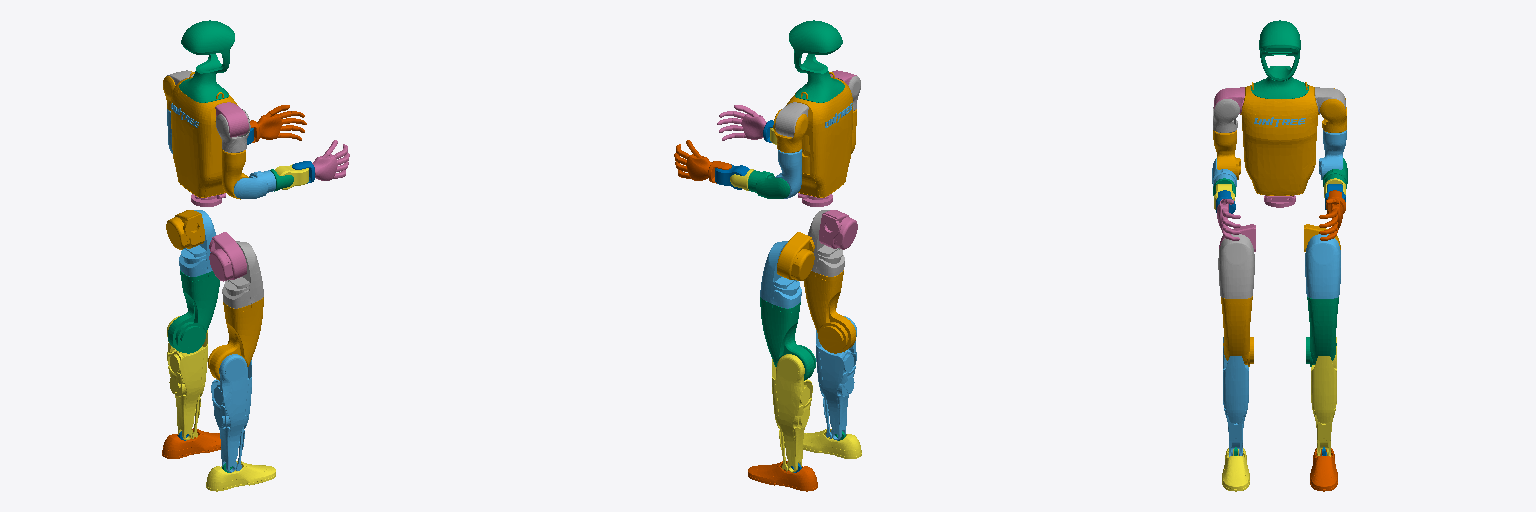
--- What the picture shows (computed from the rendered views, not written in the file) ---
The picture shows the robot from 3 angles, left to right: view 1: azimuth 30°, elevation 25°; view 2: azimuth 150°, elevation 25°; view 3: azimuth 270°, elevation 25°; orthographic projection.
Model g1_29dof with 39 links and 38 joints (29 revolute, 9 fixed), rooted at base_link, posed every joint at zero.
Visible links, largest first — view 1: torso_link, right_knee_link, head_link, left_knee_link, left_hip_yaw_link, right_hip_yaw_link, right_hip_roll_link, right_hip_pitch_link, right_ankle_roll_link, left_hip_pitch_link, left_hip_roll_link, left_ankle_roll_link (+6 smaller); view 2: torso_link, left_knee_link, head_link, right_knee_link, right_hip_yaw_link, left_hip_yaw_link, left_hip_roll_link, left_hip_pitch_link, left_ankle_roll_link, right_hip_pitch_link, right_hip_roll_link, right_ankle_roll_link (+6 smaller); view 3: torso_link, head_link, right_hip_roll_link, left_hip_roll_link, left_knee_link, right_knee_link, right_hip_yaw_link, left_hip_yaw_link, right_ankle_roll_link, left_ankle_roll_link, left_shoulder_yaw_link, right_shoulder_yaw_link (+4 smaller).
Link boxes in pixels (x1,y1,x2,y2): torso_link: [171, 72, 237, 197]; right_knee_link: [211, 354, 251, 472]; head_link: [179, 20, 234, 102]; left_knee_link: [167, 316, 207, 440]; left_hip_yaw_link: [168, 270, 219, 353]; right_hip_yaw_link: [208, 297, 263, 380]; right_hip_roll_link: [222, 241, 263, 308]; right_hip_pitch_link: [209, 232, 246, 281]; right_ankle_roll_link: [206, 461, 275, 491]; left_hip_pitch_link: [166, 210, 204, 249]; left_hip_roll_link: [179, 210, 215, 276]; left_ankle_roll_link: [162, 428, 220, 458]; torso_link: [786, 72, 852, 197]; left_knee_link: [772, 354, 812, 472]; head_link: [789, 20, 844, 102]; right_knee_link: [816, 316, 856, 440]; right_hip_yaw_link: [804, 270, 855, 353]; left_hip_yaw_link: [760, 297, 815, 380]; left_hip_roll_link: [760, 241, 801, 308]; left_hip_pitch_link: [777, 232, 814, 280]; left_ankle_roll_link: [748, 461, 817, 491]; right_hip_pitch_link: [819, 210, 857, 249]; right_hip_roll_link: [808, 210, 844, 276]; right_ankle_roll_link: [803, 429, 861, 458]; torso_link: [1240, 82, 1319, 195]; head_link: [1251, 20, 1308, 98]; right_hip_roll_link: [1218, 234, 1254, 298]; left_hip_roll_link: [1305, 234, 1340, 298]; left_knee_link: [1311, 337, 1336, 456]; right_knee_link: [1223, 337, 1248, 456]; right_hip_yaw_link: [1221, 296, 1253, 366]; left_hip_yaw_link: [1306, 297, 1338, 366]; right_ankle_roll_link: [1222, 448, 1249, 491]; left_ankle_roll_link: [1310, 448, 1337, 491]; left_shoulder_yaw_link: [1319, 130, 1346, 179]; right_shoulder_yaw_link: [1213, 130, 1240, 179].
Bounding box of the posed robot: 0.4457 × 0.3632 × 1.32 m (x, y, z).
33 mesh visuals loaded from 20 distinct referenced files (19 OBJ); not drawn: 1 (reference not matched to a file when rendering).

robot.urdf — g1_29dof:
<?xml version="1.0" ?>
<!-- =================================================================================== -->
<!-- |    This document was autogenerated by xacro from robot.xacro                    | -->
<!-- |    EDITING THIS FILE BY HAND IS NOT RECOMMENDED                                 | -->
<!-- =================================================================================== -->
<robot name="g1_29dof">
  <!-- Hip Pitch Link -->
  <link name="left_hip_pitch_link">
    <inertial>
      <origin xyz="0.002741 0.047791 -0.02606"/>
      <mass value="1.35"/>
      <inertia ixx="0.001811" ixy="3.68e-05" ixz="-3.44E-05" iyy="0.0014193" iyz="0.000171" izz="0.0012812"/>
    </inertial>
    <visual>
      <geometry>
        <mesh filename="package://unitree_g1_description/meshes/leg/hip_pitch.obj" scale="1 1 1"/>
      </geometry>
    </visual>
    <collision>
      <geometry>
        <mesh filename="package://unitree_g1_description/meshes/leg/hip_pitch.obj" scale="1 1 1"/>
      </geometry>
    </collision>
  </link>
  <!-- Hip Pitch Joint -->
  <joint name="left_hip_pitch_joint" type="revolute">
    <origin xyz="0 0.064452 -0.1027"/>
    <parent link="pelvis"/>
    <child link="left_hip_pitch_link"/>
    <axis xyz="0 1 0"/>
    <limit effort="88" lower="-2.5307" upper="2.8798" velocity="32"/>
  </joint>
  <!-- Hip Roll Link -->
  <link name="left_hip_roll_link">
    <inertial>
      <origin xyz="0.029812 -0.001045 -0.087934"/>
      <mass value="1.52"/>
      <inertia ixx="0.0023773" ixy="-3.8e-06" ixz="-0.0003908" iyy="0.0024123" iyz="1.84e-05" izz="0.0016595"/>
    </inertial>
    <visual>
      <geometry>
        <mesh filename="package://unitree_g1_description/meshes/leg/hip_roll.obj"/>
      </geometry>
    </visual>
    <collision>
      <geometry>
        <mesh filename="package://unitree_g1_description/meshes/leg/hip_roll.obj"/>
      </geometry>
    </collision>
  </link>
  <!-- Hip Roll Joint -->
  <joint name="left_hip_roll_joint" type="revolute">
    <origin rpy="0 -0.1749 0" xyz="0 0.052 -0.030465"/>
    <parent link="left_hip_pitch_link"/>
    <child link="left_hip_roll_link"/>
    <axis xyz="1 0 0"/>
    <limit effort="88" lower="-0.5236" upper="2.9671" velocity="32"/>
  </joint>
  <!-- Hip Yaw Link -->
  <link name="left_hip_yaw_link">
    <inertial>
      <origin xyz="-0.057709 -0.010981 -0.15078"/>
      <mass value="1.702"/>
      <inertia ixx="0.0057774" ixy="-0.0005411" ixz="-0.0023948" iyy="0.0076124" iyz="-0.0007072" izz="0.003149"/>
    </inertial>
    <visual>
      <geometry>
        <mesh filename="package://unitree_g1_description/meshes/leg/hip_yaw.obj" scale="1 1 1"/>
      </geometry>
    </visual>
    <collision>
      <geometry>
        <mesh filename="package://unitree_g1_description/meshes/leg/hip_yaw.obj" scale="1 1 1"/>
      </geometry>
    </collision>
  </link>
  <!-- Hip Yaw Joint -->
  <joint name="left_hip_yaw_joint" type="revolute">
    <origin xyz="0.025001 0 -0.12412"/>
    <parent link="left_hip_roll_link"/>
    <child link="left_hip_yaw_link"/>
    <axis xyz="0 0 1"/>
    <limit effort="88" lower="-2.7576" upper="2.7576" velocity="32"/>
  </joint>
  <!-- Knee Link -->
  <link name="left_knee_link">
    <inertial>
      <origin xyz="0.005457 0.003964 -0.12074"/>
      <mass value="1.932"/>
      <inertia ixx="0.011329" ixy="4.82e-05" ixz="-4.49e-05" iyy="0.011277" iyz="-0.0007146" izz="0.0015168"/>
    </inertial>
    <visual>
      <geometry>
        <mesh filename="package://unitree_g1_description/meshes/leg/knee.obj" scale="1 1 1"/>
      </geometry>
    </visual>
    <collision>
      <geometry>
        <mesh filename="package://unitree_g1_description/meshes/leg/knee.obj" scale="1 1 1"/>
      </geometry>
    </collision>
  </link>
  <!-- Knee Joint -->
  <joint name="left_knee_joint" type="revolute">
    <origin rpy="0 0.1749 0" xyz="-0.078273 0.0021489 -0.17734"/>
    <parent link="left_hip_yaw_link"/>
    <child link="left_knee_link"/>
    <axis xyz="0 1 0"/>
    <limit effort="139" lower="-0.087267" upper="2.8798" velocity="20"/>
  </joint>
  <!-- Ankle Pitch Link -->
  <link name="left_ankle_pitch_link">
    <inertial>
      <origin xyz="-0.007269 0 0.011137"/>
      <mass value="0.074"/>
      <inertia ixx="8.4E-06" ixy="0" ixz="-2.9E-06" iyy="1.89E-05" iyz="0" izz="1.26E-05"/>
    </inertial>
    <visual>
      <geometry>
        <mesh filename="package://unitree_g1_description/meshes/leg/ankle_pitch.obj"/>
      </geometry>
    </visual>
    <collision>
      <geometry>
        <mesh filename="package://unitree_g1_description/meshes/leg/ankle_pitch.obj"/>
      </geometry>
    </collision>
  </link>
  <!-- Ankle Pitch Joint -->
  <joint name="left_ankle_pitch_joint" type="revolute">
    <origin xyz="0 -9.4445e-05 -0.30001"/>
    <parent link="left_knee_link"/>
    <child link="left_ankle_pitch_link"/>
    <axis xyz="0 1 0"/>
    <limit effort="35" lower="-0.87267" upper="0.5236" velocity="30"/>
  </joint>
  <!-- Ankle Roll Link -->
  <link name="left_ankle_roll_link">
    <inertial>
      <origin xyz="0.026505 0 -0.016425"/>
      <mass value="0.608"/>
      <inertia ixx="0.0002231" ixy="2e-07" ixz="8.91E-05" iyy="0.0016161" iyz="-1e-07" izz="0.0016667"/>
    </inertial>
    <visual>
      <geometry>
        <mesh filename="package://unitree_g1_description/meshes/leg/ankle_roll.obj"/>
      </geometry>
    </visual>
    <collision>
      <origin xyz="-0.05 0.025 -0.03"/>
      <geometry>
        <sphere radius="0.005"/>
      </geometry>
    </collision>
    <collision>
      <origin xyz="-0.05 -0.025 -0.03"/>
      <geometry>
        <sphere radius="0.005"/>
      </geometry>
    </collision>
    <collision>
      <origin xyz="0.12 0.03 -0.03"/>
      <geometry>
        <sphere radius="0.005"/>
      </geometry>
    </collision>
    <collision>
      <origin xyz="0.12 -0.03 -0.03"/>
      <geometry>
        <sphere radius="0.005"/>
      </geometry>
    </collision>
  </link>
  <!-- Ankle Roll Joint -->
  <joint name="left_ankle_roll_joint" type="revolute">
    <origin xyz="0 0 -0.017558"/>
    <parent link="left_ankle_pitch_link"/>
    <child link="left_ankle_roll_link"/>
    <axis xyz="1 0 0"/>
    <limit effort="35" lower="-0.2618" upper="0.2618" velocity="30"/>
  </joint>
  <!-- Hip Pitch Link -->
  <link name="right_hip_pitch_link">
    <inertial>
      <origin xyz="0.002741 -0.047791 -0.02606"/>
      <mass value="1.35"/>
      <inertia ixx="0.001811" ixy="-3.68e-05" ixz="-3.44E-05" iyy="0.0014193" iyz="-0.000171" izz="0.0012812"/>
    </inertial>
    <visual>
      <geometry>
        <mesh filename="package://unitree_g1_description/meshes/leg/hip_pitch.obj" scale="1 -1 1"/>
      </geometry>
    </visual>
    <collision>
      <geometry>
        <mesh filename="package://unitree_g1_description/meshes/leg/hip_pitch.obj" scale="1 -1 1"/>
      </geometry>
    </collision>
  </link>
  <!-- Hip Pitch Joint -->
  <joint name="right_hip_pitch_joint" type="revolute">
    <origin xyz="0 -0.064452 -0.1027"/>
    <parent link="pelvis"/>
    <child link="right_hip_pitch_link"/>
    <axis xyz="0 1 0"/>
    <limit effort="88" lower="-2.5307" upper="2.8798" velocity="32"/>
  </joint>
  <!-- Hip Roll Link -->
  <link name="right_hip_roll_link">
    <inertial>
      <origin xyz="0.029812 0.001045 -0.087934"/>
      <mass value="1.52"/>
      <inertia ixx="0.0023773" ixy="3.8e-06" ixz="-0.0003908" iyy="0.0024123" iyz="-1.84e-05" izz="0.0016595"/>
    </inertial>
    <visual>
      <geometry>
        <mesh filename="package://unitree_g1_description/meshes/leg/hip_roll.obj"/>
      </geometry>
    </visual>
    <collision>
      <geometry>
        <mesh filename="package://unitree_g1_description/meshes/leg/hip_roll.obj"/>
      </geometry>
    </collision>
  </link>
  <!-- Hip Roll Joint -->
  <joint name="right_hip_roll_joint" type="revolute">
    <origin rpy="0 -0.1749 0" xyz="0 -0.052 -0.030465"/>
    <parent link="right_hip_pitch_link"/>
    <child link="right_hip_roll_link"/>
    <axis xyz="1 0 0"/>
    <limit effort="88" lower="-2.9671" upper="0.5236" velocity="32"/>
  </joint>
  <!-- Hip Yaw Link -->
  <link name="right_hip_yaw_link">
    <inertial>
      <origin xyz="-0.057709 0.010981 -0.15078"/>
      <mass value="1.702"/>
      <inertia ixx="0.0057774" ixy="0.0005411" ixz="-0.0023948" iyy="0.0076124" iyz="0.0007072" izz="0.003149"/>
    </inertial>
    <visual>
      <geometry>
        <mesh filename="package://unitree_g1_description/meshes/leg/hip_yaw.obj" scale="1 -1 1"/>
      </geometry>
    </visual>
    <collision>
      <geometry>
        <mesh filename="package://unitree_g1_description/meshes/leg/hip_yaw.obj" scale="1 -1 1"/>
      </geometry>
    </collision>
  </link>
  <!-- Hip Yaw Joint -->
  <joint name="right_hip_yaw_joint" type="revolute">
    <origin xyz="0.025001 0 -0.12412"/>
    <parent link="right_hip_roll_link"/>
    <child link="right_hip_yaw_link"/>
    <axis xyz="0 0 1"/>
    <limit effort="88" lower="-2.7576" upper="2.7576" velocity="32"/>
  </joint>
  <!-- Knee Link -->
  <link name="right_knee_link">
    <inertial>
      <origin xyz="0.005457 -0.003964 -0.12074"/>
      <mass value="1.932"/>
      <inertia ixx="0.011329" ixy="-4.82e-05" ixz="4.49e-05" iyy="0.011277" iyz="0.0007146" izz="0.0015168"/>
    </inertial>
    <visual>
      <geometry>
        <mesh filename="package://unitree_g1_description/meshes/leg/knee.obj" scale="1 -1 1"/>
      </geometry>
    </visual>
    <collision>
      <geometry>
        <mesh filename="package://unitree_g1_description/meshes/leg/knee.obj" scale="1 -1 1"/>
      </geometry>
    </collision>
  </link>
  <!-- Knee Joint -->
  <joint name="right_knee_joint" type="revolute">
    <origin rpy="0 0.1749 0" xyz="-0.078273 -0.0021489 -0.17734"/>
    <parent link="right_hip_yaw_link"/>
    <child link="right_knee_link"/>
    <axis xyz="0 1 0"/>
    <limit effort="139" lower="-0.087267" upper="2.8798" velocity="20"/>
  </joint>
  <!-- Ankle Pitch Link -->
  <link name="right_ankle_pitch_link">
    <inertial>
      <origin xyz="-0.007269 0 0.011137"/>
      <mass value="0.074"/>
      <inertia ixx="8.4E-06" ixy="0" ixz="-2.9E-06" iyy="1.89E-05" iyz="0" izz="1.26E-05"/>
    </inertial>
    <visual>
      <geometry>
        <mesh filename="package://unitree_g1_description/meshes/leg/ankle_pitch.obj"/>
      </geometry>
    </visual>
    <collision>
      <geometry>
        <mesh filename="package://unitree_g1_description/meshes/leg/ankle_pitch.obj"/>
      </geometry>
    </collision>
  </link>
  <!-- Ankle Pitch Joint -->
  <joint name="right_ankle_pitch_joint" type="revolute">
    <origin xyz="0 9.4445e-05 -0.30001"/>
    <parent link="right_knee_link"/>
    <child link="right_ankle_pitch_link"/>
    <axis xyz="0 1 0"/>
    <limit effort="35" lower="-0.87267" upper="0.5236" velocity="30"/>
  </joint>
  <!-- Ankle Roll Link -->
  <link name="right_ankle_roll_link">
    <inertial>
      <origin xyz="0.026505 0 -0.016425"/>
      <mass value="0.608"/>
      <inertia ixx="0.0002231" ixy="-2e-07" ixz="8.91E-05" iyy="0.0016161" iyz="1e-07" izz="0.0016667"/>
    </inertial>
    <visual>
      <geometry>
        <mesh filename="package://unitree_g1_description/meshes/leg/ankle_roll.obj"/>
      </geometry>
    </visual>
    <collision>
      <origin xyz="-0.05 0.025 -0.03"/>
      <geometry>
        <sphere radius="0.005"/>
      </geometry>
    </collision>
    <collision>
      <origin xyz="-0.05 -0.025 -0.03"/>
      <geometry>
        <sphere radius="0.005"/>
      </geometry>
    </collision>
    <collision>
      <origin xyz="0.12 0.03 -0.03"/>
      <geometry>
        <sphere radius="0.005"/>
      </geometry>
    </collision>
    <collision>
      <origin xyz="0.12 -0.03 -0.03"/>
      <geometry>
        <sphere radius="0.005"/>
      </geometry>
    </collision>
  </link>
  <!-- Ankle Roll Joint -->
  <joint name="right_ankle_roll_joint" type="revolute">
    <origin xyz="0 0 -0.017558"/>
    <parent link="right_ankle_pitch_link"/>
    <child link="right_ankle_roll_link"/>
    <axis xyz="1 0 0"/>
    <limit effort="35" lower="-0.2618" upper="0.2618" velocity="30"/>
  </joint>
  <!-- 
		Unitree G1 Body Macro
		Includes: pelvis, torso, head, sensors, and logo
		-->
  <link name="base_link"/>
  <joint name="base_link_joint" type="fixed">
    <parent link="base_link"/>
    <child link="pelvis"/>
  </joint>
  <!-- Pelvis Link -->
  <link name="pelvis">
    <inertial>
      <origin xyz="0 0 -0.07605"/>
      <mass value="3.813"/>
      <inertia ixx="0.010549" ixy="0" ixz="2.1E-06" iyy="0.0093089" iyz="0" izz="0.0079184"/>
    </inertial>
    <visual>
      <geometry>
        <mesh filename="package://unitree_g1_description/meshes/body/pelvis.obj"/>
      </geometry>
    </visual>
  </link>
  <!-- Torso Structure -->
  <!-- Waist Yaw Link -->
  <link name="waist_yaw_link">
    <inertial>
      <origin xyz="0.003494 0.000233 0.018034"/>
      <mass value="0.214"/>
      <inertia ixx="0.00010673" ixy="2.703E-06" ixz="-7.631E-06" iyy="0.00010422" iyz="-2.01E-07" izz="0.0001625"/>
    </inertial>
    <visual>
      <geometry>
        <mesh filename="package://unitree_g1_description/meshes/body/waist_yaw.obj"/>
      </geometry>
    </visual>
  </link>
  <!-- Waist Yaw Joint -->
  <joint name="waist_yaw_joint" type="revolute">
    <parent link="pelvis"/>
    <child link="waist_yaw_link"/>
    <axis xyz="0 0 1"/>
    <limit effort="88" lower="-2.618" upper="2.618" velocity="32"/>
  </joint>
  <!-- Waist Roll Link -->
  <link name="waist_roll_link">
    <inertial>
      <origin xyz="0 2.3E-05 0"/>
      <mass value="0.086"/>
      <inertia ixx="7.079E-06" ixy="0" ixz="0" iyy="6.339E-06" iyz="0" izz="8.245E-06"/>
    </inertial>
    <visual>
      <geometry>
        <mesh filename="package://unitree_g1_description/meshes/body/waist_roll.obj"/>
      </geometry>
    </visual>
  </link>
  <!-- Waist Roll Joint -->
  <joint name="waist_roll_joint" type="revolute">
    <origin xyz="-0.0039635 0 0.044"/>
    <parent link="waist_yaw_link"/>
    <child link="waist_roll_link"/>
    <axis xyz="1 0 0"/>
    <limit effort="35" lower="-0.52" upper="0.52" velocity="30"/>
  </joint>
  <!-- Torso Link -->
  <link name="torso_link">
    <inertial>
      <origin xyz="0.000931 0.000346 0.15082"/>
      <mass value="6.78"/>
      <inertia ixx="0.05905" ixy="3.3302E-05" ixz="-0.0017715" iyy="0.047014" iyz="-2.2399E-05" izz="0.025652"/>
    </inertial>
    <visual>
      <geometry>
        <mesh filename="package://unitree_g1_description/meshes/body/torso.obj"/>
      </geometry>
    </visual>
    <collision>
      <origin xyz="0.008 0 0.025"/>
      <geometry>
        <box size="0.12 0.15 0.05"/>
      </geometry>
    </collision>
    <collision>
      <origin xyz="0.008 0 0.15"/>
      <geometry>
        <box size="0.12 0.2 0.2"/>
      </geometry>
    </collision>
  </link>
  <!-- Waist Pitch Joint -->
  <joint name="waist_pitch_joint" type="revolute">
    <parent link="waist_roll_link"/>
    <child link="torso_link"/>
    <axis xyz="0 1 0"/>
    <limit effort="35" lower="-0.52" upper="0.52" velocity="30"/>
  </joint>
  <!-- Logo -->
  <link name="logo_link">
    <inertial>
      <mass value="0.001"/>
      <inertia ixx="1e-7" ixy="0" ixz="0" iyy="1e-7" iyz="0" izz="1e-7"/>
    </inertial>
    <visual>
      <geometry>
        <mesh filename="package://unitree_g1_description/meshes/body/logo.obj"/>
      </geometry>
    </visual>
  </link>
  <joint name="logo_joint" type="fixed">
    <origin xyz="0.0039635 0 -0.044"/>
    <parent link="torso_link"/>
    <child link="logo_link"/>
  </joint>
  <!-- Head -->
  <link name="head_link">
    <inertial>
      <origin xyz="0.005267 0.000299 0.449869"/>
      <mass value="1.036"/>
      <inertia ixx="0.004085051" ixy="-2.543E-06" ixz="-6.9455E-05" iyy="0.004185212" iyz="-3.726E-06" izz="0.001807911"/>
    </inertial>
    <visual>
      <geometry>
        <mesh filename="package://unitree_g1_description/meshes/body/head.obj"/>
      </geometry>
    </visual>
    <collision>
      <geometry>
        <mesh filename="package://unitree_g1_description/meshes/body/head.obj"/>
      </geometry>
    </collision>
  </link>
  <joint name="head_joint" type="fixed">
    <origin xyz="0.0039635 0 -0.044"/>
    <parent link="torso_link"/>
    <child link="head_link"/>
  </joint>
  <!-- IMU Sensors -->
  <link name="imu_in_torso"/>
  <joint name="imu_in_torso_joint" type="fixed">
    <origin xyz="-0.03959 -0.00224 0.14792"/>
    <parent link="torso_link"/>
    <child link="imu_in_torso"/>
  </joint>
  <link name="imu_in_pelvis"/>
  <joint name="imu_in_pelvis_joint" type="fixed">
    <origin xyz="0.04525 0 -0.08339"/>
    <parent link="pelvis"/>
    <child link="imu_in_pelvis"/>
  </joint>
  <!-- Cameras and Sensors -->
  <link name="d435_link"/>
  <joint name="d435_joint" type="fixed">
    <origin rpy="0 0.8307767239493009 0" xyz="0.0576235 0.01753 0.42987"/>
    <parent link="torso_link"/>
    <child link="d435_link"/>
  </joint>
  <link name="mid360_link"/>
  <joint name="mid360_joint" type="fixed">
    <origin rpy="0 0.04014257279586953 0" xyz="0.0002835 0.00003 0.41618"/>
    <parent link="torso_link"/>
    <child link="mid360_link"/>
  </joint>
  <!-- 
		Unitree G1 Arm Macro
		Parameters:
		- name: arm name prefix (e.g., "left", "right")
		- direction: 1 for right arm, -1 for left arm (for mirroring)
		-->
  <!-- Shoulder Pitch Link -->
  <link name="left_shoulder_pitch_link">
    <inertial>
      <origin xyz="0 0.035892 -0.011628"/>
      <mass value="0.718"/>
      <inertia ixx="0.0004291" ixy="-9.2e-06" ixz="6.4E-06" iyy="0.000453" iyz="2.26e-05" izz="0.000423"/>
    </inertial>
    <visual>
      <geometry>
        <mesh filename="package://unitree_g1_description/meshes/arm/shoulder_pitch.obj" scale="1 1 1"/>
      </geometry>
    </visual>
    <collision>
      <origin rpy="0 1.5707963267948966 0" xyz="0 0.04 -0.01"/>
      <geometry>
        <cylinder length="0.05" radius="0.03"/>
      </geometry>
    </collision>
  </link>
  <!-- Shoulder Pitch Joint -->
  <joint name="left_shoulder_pitch_joint" type="revolute">
    <origin rpy="0.27931 5.4949E-05 -0.00019159" xyz="0.0039563 0.10022 0.24778"/>
    <parent link="torso_link"/>
    <child link="left_shoulder_pitch_link"/>
    <axis xyz="0 1 0"/>
    <limit effort="25" lower="-3.0892" upper="2.6704" velocity="37"/>
  </joint>
  <!-- Shoulder Roll Link -->
  <link name="left_shoulder_roll_link">
    <inertial>
      <origin xyz="-0.000227 0.00727 -0.063243"/>
      <mass value="0.643"/>
      <inertia ixx="0.0006177" ixy="-1e-06" ixz="8.7E-06" iyy="0.0006912" iyz="-5.3e-06" izz="0.0003894"/>
    </inertial>
    <visual>
      <geometry>
        <mesh filename="package://unitree_g1_description/meshes/arm/shoulder_roll.obj" scale="1 1 1"/>
      </geometry>
    </visual>
    <collision>
      <origin xyz="-0.004 0.006 -0.053"/>
      <geometry>
        <cylinder length="0.03" radius="0.03"/>
      </geometry>
    </collision>
  </link>
  <!-- Shoulder Roll Joint -->
  <joint name="left_shoulder_roll_joint" type="revolute">
    <origin rpy="-0.27925 0 0" xyz="0 0.038 -0.013831"/>
    <parent link="left_shoulder_pitch_link"/>
    <child link="left_shoulder_roll_link"/>
    <axis xyz="1 0 0"/>
    <limit effort="25" lower="-1.5882" upper="2.2515" velocity="37"/>
  </joint>
  <!-- Shoulder Yaw Link -->
  <link name="left_shoulder_yaw_link">
    <inertial>
      <origin xyz="0.010773 -0.002949 -0.072009"/>
      <mass value="0.734"/>
      <inertia ixx="0.0009988" ixy="7.9e-06" ixz="0.0001412" iyy="0.0010605" iyz="-2.86e-05" izz="0.0004354"/>
    </inertial>
    <visual>
      <geometry>
        <mesh filename="package://unitree_g1_description/meshes/arm/shoulder_yaw.obj" scale="1 1 1"/>
      </geometry>
    </visual>
    <collision>
      <origin xyz="0 0 -0.02"/>
      <geometry>
        <cylinder length="0.08" radius="0.03"/>
      </geometry>
    </collision>
    <collision>
      <origin rpy="1.5707963267948966 0 0" xyz="0.01 -0.01 -0.08"/>
      <geometry>
        <cylinder length="0.06" radius="0.03"/>
      </geometry>
    </collision>
  </link>
  <!-- Shoulder Yaw Joint -->
  <joint name="left_shoulder_yaw_joint" type="revolute">
    <origin xyz="0 0.00624 -0.1032"/>
    <parent link="left_shoulder_roll_link"/>
    <child link="left_shoulder_yaw_link"/>
    <axis xyz="0 0 1"/>
    <limit effort="25" lower="-2.618" upper="2.618" velocity="37"/>
  </joint>
  <!-- Elbow Link -->
  <link name="left_elbow_link">
    <inertial>
      <origin xyz="0.064956 0.004454 -0.010062"/>
      <mass value="0.6"/>
      <inertia ixx="0.0002891" ixy="6.53e-05" ixz="1.72E-05" iyy="0.0004152" iyz="-5.6e-06" izz="0.0004197"/>
    </inertial>
    <visual>
      <geometry>
        <mesh filename="package://unitree_g1_description/meshes/arm/elbow.obj" scale="1 1 1"/>
      </geometry>
    </visual>
    <collision>
      <origin rpy="0 1.5707963267948966 0" xyz="0.07 0 -0.01"/>
      <geometry>
        <cylinder length="0.06" radius="0.03"/>
      </geometry>
    </collision>
  </link>
  <!-- Elbow Joint -->
  <joint name="left_elbow_joint" type="revolute">
    <origin xyz="0.015783 0 -0.080518"/>
    <parent link="left_shoulder_yaw_link"/>
    <child link="left_elbow_link"/>
    <axis xyz="0 1 0"/>
    <limit effort="25" lower="-1.0472" upper="2.0944" velocity="37"/>
  </joint>
  <!-- Wrist Roll Link -->
  <link name="left_wrist_roll_link">
    <inertial>
      <origin xyz="0.01713944778 0.00053759094 0.00000048864"/>
      <mass value="0.08544498"/>
      <inertia ixx="0.00004821544023" ixy="-4.24511021e-06" ixz="0.00000000510599" iyy="0.00003722899093" iyz="-1.23525e-09" izz="0.00005482106541"/>
    </inertial>
    <visual>
      <geometry>
        <mesh filename="package://unitree_g1_description/meshes/arm/wrist_roll.obj"/>
      </geometry>
    </visual>
  </link>
  <!-- Wrist Roll Joint -->
  <joint name="left_wrist_roll_joint" type="revolute">
    <origin xyz="0.100 0.00188791 -0.010"/>
    <axis xyz="1 0 0"/>
    <parent link="left_elbow_link"/>
    <child link="left_wrist_roll_link"/>
    <limit effort="25" lower="-1.972222054" upper="1.972222054" velocity="37"/>
  </joint>
  <!-- Wrist Pitch Link -->
  <link name="left_wrist_pitch_link">
    <inertial>
      <origin xyz="0.02299989837 -0.00111685314 -0.00111658096"/>
      <mass value="0.48404956"/>
      <inertia ixx="0.00016579646273" ixy="-1.231206746e-05" ixz="0.00001231699194" iyy="0.00042954057410" iyz="8.1417712e-07" izz="0.00042953697654"/>
    </inertial>
    <visual>
      <geometry>
        <mesh filename="package://unitree_g1_description/meshes/arm/wrist_pitch.obj"/>
      </geometry>
    </visual>
    <collision>
      <origin rpy="1.5707963267948966 0 0"/>
      <geometry>
        <cylinder length="0.06" radius="0.03"/>
      </geometry>
    </collision>
    <collision>
      <origin xyz="0.06 0 0"/>
      <geometry>
        <cylinder length="0.05" radius="0.03"/>
      </geometry>
    </collision>
  </link>
  <!-- Wrist Pitch Joint -->
  <joint name="left_wrist_pitch_joint" type="revolute">
    <origin xyz="0.038 0 0"/>
    <axis xyz="0 1 0"/>
    <parent link="left_wrist_roll_link"/>
    <child link="left_wrist_pitch_link"/>
    <limit effort="5" lower="-1.614429558" upper="1.614429558" velocity="22"/>
  </joint>
  <!-- Wrist Yaw Link -->
  <link name="left_wrist_yaw_link">
    <inertial>
      <origin xyz="0.02200381568 0.00049485096 0.00053861123"/>
      <mass value="0.08457647"/>
      <inertia ixx="0.00004929128828" ixy="-4.5735494e-07" ixz="0.00000445867591" iyy="0.00005973338134" iyz="-4.3217198e-07" izz="0.00003928083826"/>
    </inertial>
    <visual>
      <geometry>
        <mesh filename="package://unitree_g1_description/meshes/arm/wrist_yaw.obj"/>
      </geometry>
    </visual>
  </link>
  <!-- Wrist Yaw Joint -->
  <joint name="left_wrist_yaw_joint" type="revolute">
    <origin xyz="0.046 0 0"/>
    <axis xyz="0 0 1"/>
    <parent link="left_wrist_pitch_link"/>
    <child link="left_wrist_yaw_link"/>
    <limit effort="5" lower="-1.614429558" upper="1.614429558" velocity="22"/>
  </joint>
  <!-- 
		Unitree G1 Arm Macro
		Parameters:
		- name: arm name prefix (e.g., "left", "right")
		- direction: 1 for right arm, -1 for left arm (for mirroring)
		-->
  <!-- Shoulder Pitch Link -->
  <link name="right_shoulder_pitch_link">
    <inertial>
      <origin xyz="0 -0.035892 -0.011628"/>
      <mass value="0.718"/>
      <inertia ixx="0.0004291" ixy="9.2e-06" ixz="6.4E-06" iyy="0.000453" iyz="-2.26e-05" izz="0.000423"/>
    </inertial>
    <visual>
      <geometry>
        <mesh filename="package://unitree_g1_description/meshes/arm/shoulder_pitch.obj" scale="1 -1 1"/>
      </geometry>
    </visual>
    <collision>
      <origin rpy="0 1.5707963267948966 0" xyz="0 -0.04 -0.01"/>
      <geometry>
        <cylinder length="0.05" radius="0.03"/>
      </geometry>
    </collision>
  </link>
  <!-- Shoulder Pitch Joint -->
  <joint name="right_shoulder_pitch_joint" type="revolute">
    <origin rpy="-0.27931 5.4949E-05 0.00019159" xyz="0.0039563 -0.10022 0.24778"/>
    <parent link="torso_link"/>
    <child link="right_shoulder_pitch_link"/>
    <axis xyz="0 1 0"/>
    <limit effort="25" lower="-3.0892" upper="2.6704" velocity="37"/>
  </joint>
  <!-- Shoulder Roll Link -->
  <link name="right_shoulder_roll_link">
    <inertial>
      <origin xyz="-0.000227 -0.00727 -0.063243"/>
      <mass value="0.643"/>
      <inertia ixx="0.0006177" ixy="1e-06" ixz="8.7E-06" iyy="0.0006912" iyz="5.3e-06" izz="0.0003894"/>
    </inertial>
    <visual>
      <geometry>
        <mesh filename="package://unitree_g1_description/meshes/arm/shoulder_roll.obj" scale="1 -1 1"/>
      </geometry>
    </visual>
    <collision>
      <origin xyz="-0.004 -0.006 -0.053"/>
      <geometry>
        <cylinder length="0.03" radius="0.03"/>
      </geometry>
    </collision>
  </link>
  <!-- Shoulder Roll Joint -->
  <joint name="right_shoulder_roll_joint" type="revolute">
    <origin rpy="0.27925 0 0" xyz="0 -0.038 -0.013831"/>
    <parent link="right_shoulder_pitch_link"/>
    <child link="right_shoulder_roll_link"/>
    <axis xyz="1 0 0"/>
    <limit effort="25" lower="-2.2515" upper="1.5882" velocity="37"/>
  </joint>
  <!-- Shoulder Yaw Link -->
  <link name="right_shoulder_yaw_link">
    <inertial>
      <origin xyz="0.010773 0.002949 -0.072009"/>
      <mass value="0.734"/>
      <inertia ixx="0.0009988" ixy="-7.9e-06" ixz="0.0001412" iyy="0.0010605" iyz="2.86e-05" izz="0.0004354"/>
    </inertial>
    <visual>
      <geometry>
        <mesh filename="package://unitree_g1_description/meshes/arm/shoulder_yaw.obj" scale="1 -1 1"/>
      </geometry>
    </visual>
    <collision>
      <origin xyz="0 0 -0.02"/>
      <geometry>
        <cylinder length="0.08" radius="0.03"/>
      </geometry>
    </collision>
    <collision>
      <origin rpy="1.5707963267948966 0 0" xyz="0.01 0.01 -0.08"/>
      <geometry>
        <cylinder length="0.06" radius="0.03"/>
      </geometry>
    </collision>
  </link>
  <!-- Shoulder Yaw Joint -->
  <joint name="right_shoulder_yaw_joint" type="revolute">
    <origin xyz="0 -0.00624 -0.1032"/>
    <parent link="right_shoulder_roll_link"/>
    <child link="right_shoulder_yaw_link"/>
    <axis xyz="0 0 1"/>
    <limit effort="25" lower="-2.618" upper="2.618" velocity="37"/>
  </joint>
  <!-- Elbow Link -->
  <link name="right_elbow_link">
    <inertial>
      <origin xyz="0.064956 -0.004454 -0.010062"/>
      <mass value="0.6"/>
      <inertia ixx="0.0002891" ixy="-6.53e-05" ixz="1.72E-05" iyy="0.0004152" iyz="5.6e-06" izz="0.0004197"/>
    </inertial>
    <visual>
      <geometry>
        <mesh filename="package://unitree_g1_description/meshes/arm/elbow.obj" scale="1 -1 1"/>
      </geometry>
    </visual>
    <collision>
      <origin rpy="0 1.5707963267948966 0" xyz="0.07 0 -0.01"/>
      <geometry>
        <cylinder length="0.06" radius="0.03"/>
      </geometry>
    </collision>
  </link>
  <!-- Elbow Joint -->
  <joint name="right_elbow_joint" type="revolute">
    <origin xyz="0.015783 0 -0.080518"/>
    <parent link="right_shoulder_yaw_link"/>
    <child link="right_elbow_link"/>
    <axis xyz="0 1 0"/>
    <limit effort="25" lower="-1.0472" upper="2.0944" velocity="37"/>
  </joint>
  <!-- Wrist Roll Link -->
  <link name="right_wrist_roll_link">
    <inertial>
      <origin xyz="0.01713944778 -0.00053759094 0.00000048864"/>
      <mass value="0.08544498"/>
      <inertia ixx="0.00004821544023" ixy="4.24511021e-06" ixz="0.00000000510599" iyy="0.00003722899093" iyz="1.23525e-09" izz="0.00005482106541"/>
    </inertial>
    <visual>
      <geometry>
        <mesh filename="package://unitree_g1_description/meshes/arm/wrist_roll.obj"/>
      </geometry>
    </visual>
  </link>
  <!-- Wrist Roll Joint -->
  <joint name="right_wrist_roll_joint" type="revolute">
    <origin xyz="0.100 -0.00188791 -0.010"/>
    <axis xyz="1 0 0"/>
    <parent link="right_elbow_link"/>
    <child link="right_wrist_roll_link"/>
    <limit effort="25" lower="-1.972222054" upper="1.972222054" velocity="37"/>
  </joint>
  <!-- Wrist Pitch Link -->
  <link name="right_wrist_pitch_link">
    <inertial>
      <origin xyz="0.02299989837 0.00111685314 -0.00111658096"/>
      <mass value="0.48404956"/>
      <inertia ixx="0.00016579646273" ixy="1.231206746e-05" ixz="0.00001231699194" iyy="0.00042954057410" iyz="-8.1417712e-07" izz="0.00042953697654"/>
    </inertial>
    <visual>
      <geometry>
        <mesh filename="package://unitree_g1_description/meshes/arm/wrist_pitch.obj"/>
      </geometry>
    </visual>
    <collision>
      <origin rpy="1.5707963267948966 0 0"/>
      <geometry>
        <cylinder length="0.06" radius="0.03"/>
      </geometry>
    </collision>
    <collision>
      <origin xyz="0.06 0 0"/>
      <geometry>
        <cylinder length="0.05" radius="0.03"/>
      </geometry>
    </collision>
  </link>
  <!-- Wrist Pitch Joint -->
  <joint name="right_wrist_pitch_joint" type="revolute">
    <origin xyz="0.038 0 0"/>
    <axis xyz="0 1 0"/>
    <parent link="right_wrist_roll_link"/>
    <child link="right_wrist_pitch_link"/>
    <limit effort="5" lower="-1.614429558" upper="1.614429558" velocity="22"/>
  </joint>
  <!-- Wrist Yaw Link -->
  <link name="right_wrist_yaw_link">
    <inertial>
      <origin xyz="0.02200381568 -0.00049485096 0.00053861123"/>
      <mass value="0.08457647"/>
      <inertia ixx="0.00004929128828" ixy="4.5735494e-07" ixz="0.00000445867591" iyy="0.00005973338134" iyz="4.3217198e-07" izz="0.00003928083826"/>
    </inertial>
    <visual>
      <geometry>
        <mesh filename="package://unitree_g1_description/meshes/arm/wrist_yaw.obj"/>
      </geometry>
    </visual>
  </link>
  <!-- Wrist Yaw Joint -->
  <joint name="right_wrist_yaw_joint" type="revolute">
    <origin xyz="0.046 0 0"/>
    <axis xyz="0 0 1"/>
    <parent link="right_wrist_pitch_link"/>
    <child link="right_wrist_yaw_link"/>
    <limit effort="5" lower="-1.614429558" upper="1.614429558" velocity="22"/>
  </joint>
  <!-- 
		Unitree G1 Hand Macro
		Parameters:
		- name: hand name prefix (e.g., "left", "right")
		- direction: 1 for left hand, -1 for right hand (for mirroring)
		-->
  <!-- Hand Link -->
  <link name="left_hand_base">
    <inertial>
      <origin xyz="0.05361310808 -0.0029590524 0.00215413091"/>
      <mass value="0.260"/>
      <inertia ixx="0.00010099485234748" ixy="3.618590790516e-05" ixz="-0.00000074301518642" iyy="0.00028135871571621" iyz="-3.30189743286e-06" izz="0.00021894770413514"/>
    </inertial>
    <visual>
      <geometry>
        <mesh filename="package://unitree_g1_description/meshes/arm/hand.obj" scale="1 1 1"/>
      </geometry>
    </visual>
    <collision>
      <origin xyz="0.07 -0.02 0"/>
      <geometry>
        <box size="0.12 0.05 0.1"/>
      </geometry>
    </collision>
  </link>
  <!-- 
		Unitree G1 Hand Macro
		Parameters:
		- name: hand name prefix (e.g., "left", "right")
		- direction: 1 for left hand, -1 for right hand (for mirroring)
		-->
  <!-- Hand Link -->
  <link name="right_hand_base">
    <inertial>
      <origin xyz="0.05361310808 0.0029590524 0.00215413091"/>
      <mass value="0.260"/>
      <inertia ixx="0.00010099485234748" ixy="-3.618590790516e-05" ixz="-0.00000074301518642" iyy="0.00028135871571621" iyz="3.30189743286e-06" izz="0.00021894770413514"/>
    </inertial>
    <visual>
      <geometry>
        <mesh filename="package://unitree_g1_description/meshes/arm/hand.obj" scale="1 -1 1"/>
      </geometry>
    </visual>
    <collision>
      <origin xyz="0.07 0.02 0"/>
      <geometry>
        <box size="0.12 0.05 0.1"/>
      </geometry>
    </collision>
  </link>
  <joint dont_collapse="true" name="left_hand_palm_joint" type="fixed">
    <origin xyz="0.0415 0.003 0"/>
    <parent link="left_wrist_yaw_link"/>
    <child link="left_hand_base"/>
  </joint>
  <joint dont_collapse="true" name="right_hand_palm_joint" type="fixed">
    <origin xyz="0.0415 -0.003 0"/>
    <parent link="right_wrist_yaw_link"/>
    <child link="right_hand_base"/>
  </joint>
</robot>
